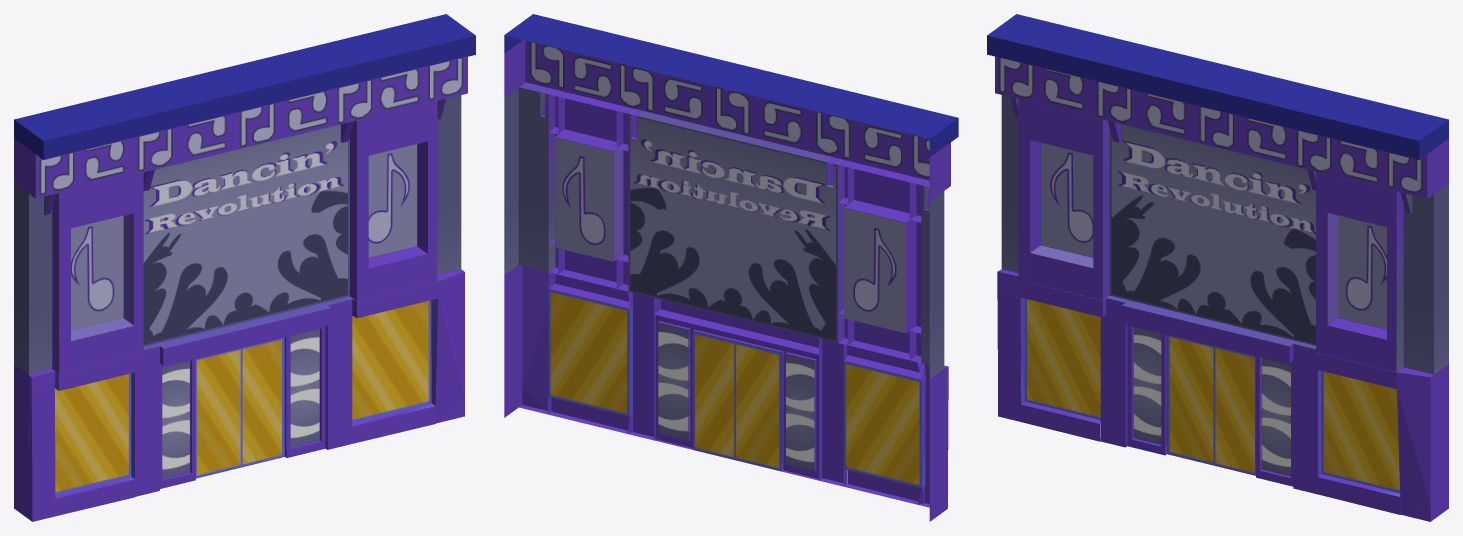
Rendered from Bldg5.fbx.
3 views of the same model, side by side, from view 1: azimuth 30°, elevation 25°; view 2: azimuth 150°, elevation 25°; view 3: azimuth 330°, elevation 25° (orthographic).
Parts seen in each view (by area): view 1: Bldg5; view 2: Bldg5; view 3: Bldg5.
Boxes of the visible parts, bbox=[...] form: Bldg5: bbox=[14, 14, 475, 521]; Bldg5: bbox=[504, 14, 958, 521]; Bldg5: bbox=[987, 14, 1448, 521].
Bounding box in the file's own units: 7.79 × 6.69 × 0.9166.
1 material, 1 textured.
